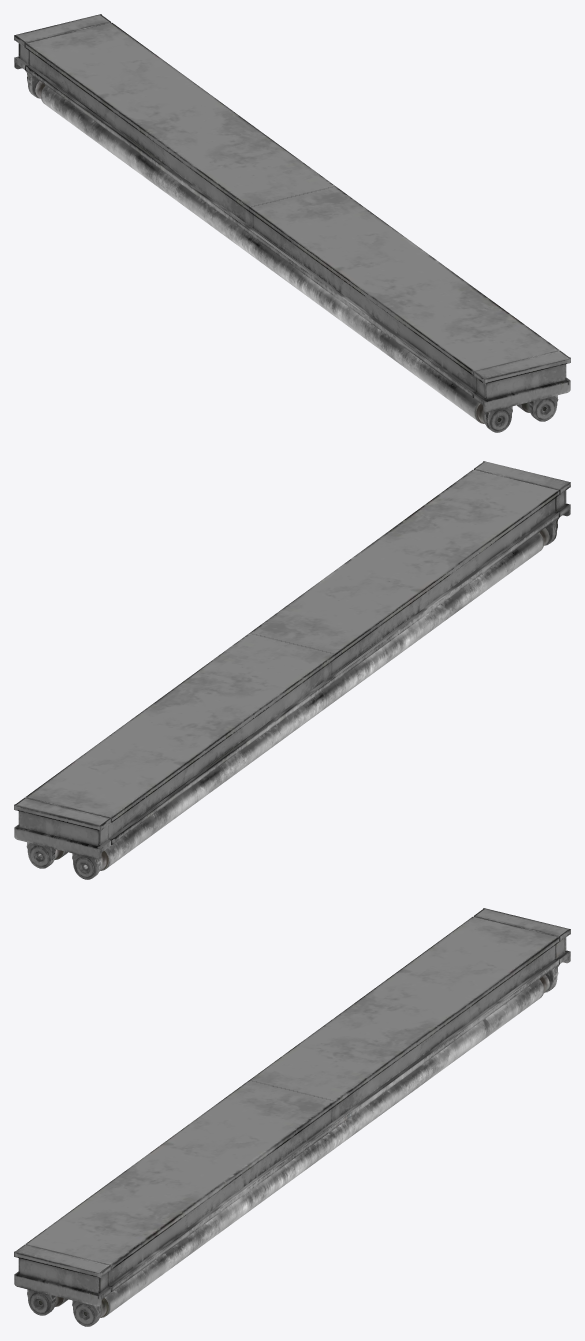
Rendered from fluorescent_light.glb.
3 renders of one model, top to bottom at view 1: azimuth 30°, elevation 25°; view 2: azimuth 150°, elevation 25°; view 3: azimuth 330°, elevation 25°, orthographic.
Parts seen in each view (by area): view 1: Fluorescent_Light _Fluorescent_Light_MTL_0; view 2: Fluorescent_Light _Fluorescent_Light_MTL_0; view 3: Fluorescent_Light _Fluorescent_Light_MTL_0.
Boxes of the visible parts, bbox=[...] form: Fluorescent_Light _Fluorescent_Light_MTL_0: bbox=[14, 14, 570, 432]; Fluorescent_Light _Fluorescent_Light_MTL_0: bbox=[14, 461, 570, 879]; Fluorescent_Light _Fluorescent_Light_MTL_0: bbox=[14, 908, 570, 1326].
Bounding box in the file's own units: 0.1344 × 0.0921 × 1.26.
1 material, 1 textured.
